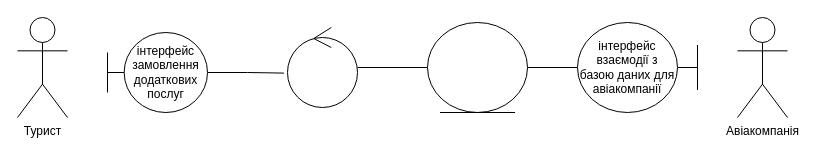
This 816x156 diagram has some shape labels left out. Each missing label, with the centre of its shape:
"пропонувач додаткових послуг": the point at 322,67
додавання до білету інформації про додаткові послуги: the point at 477,67
